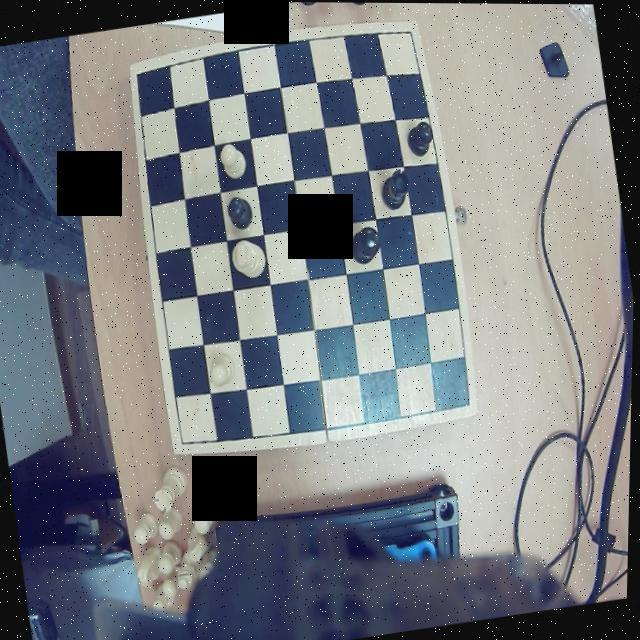chess-table-corners: (454, 388, 479, 416), (176, 430, 200, 456), (128, 62, 148, 92), (396, 20, 417, 45)
